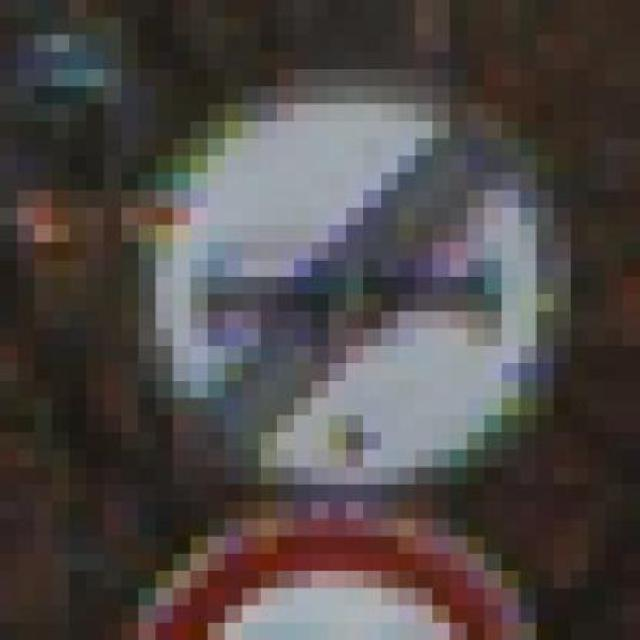No_Over_Taking: (138, 52, 571, 485)
